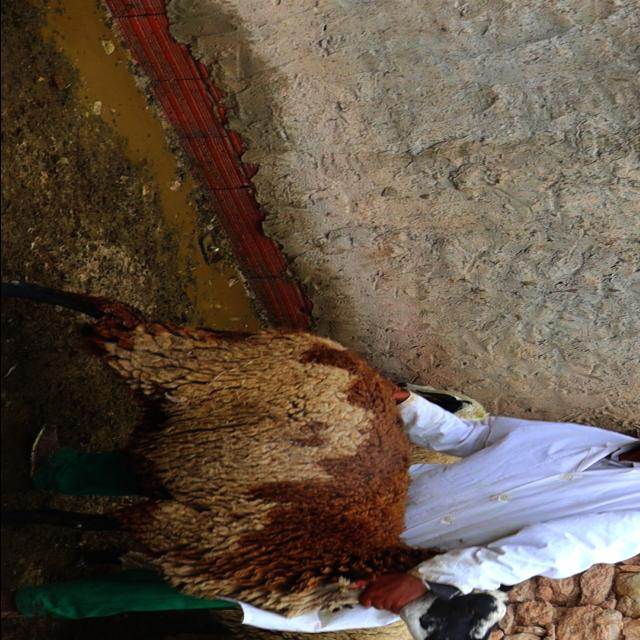Score_5: (1, 281, 432, 616)
